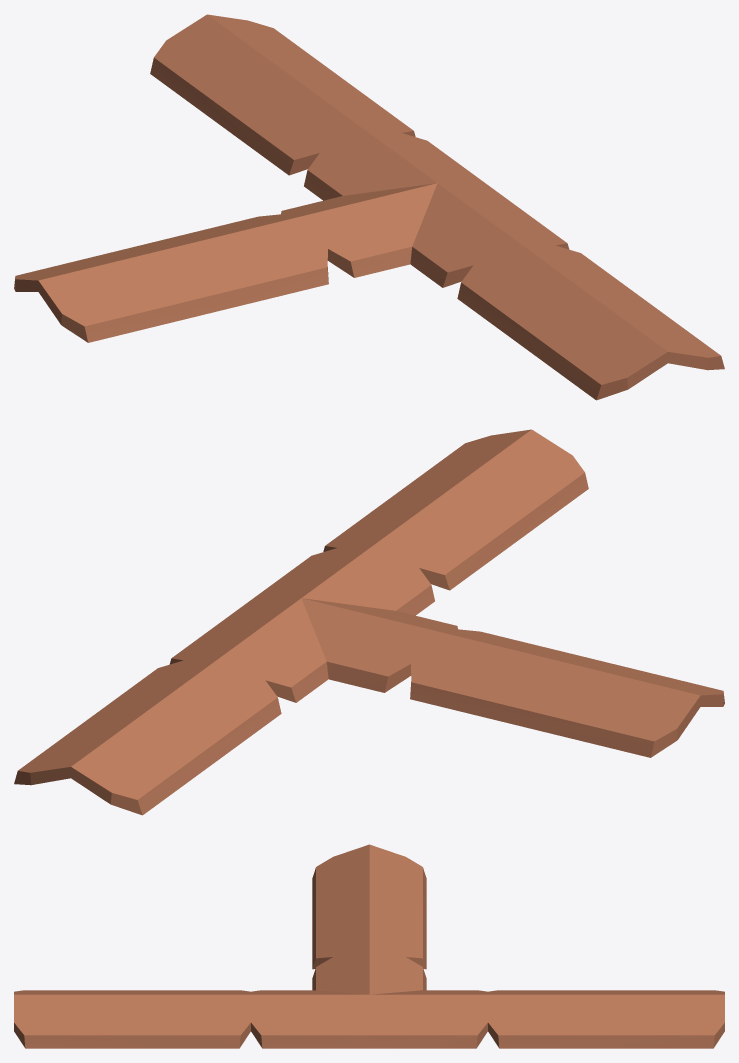
File: SM_Roof_Top_T_3m_Empire.fbx
The picture shows the model from 3 angles, top to bottom: view 1: azimuth 30°, elevation 25°; view 2: azimuth 150°, elevation 25°; view 3: azimuth 270°, elevation 25°; orthographic projection. The views are drawn at different scales.
Parts seen in each view (by area): view 1: SM_Roof_Top_T_3m_Empire; view 2: SM_Roof_Top_T_3m_Empire; view 3: SM_Roof_Top_T_3m_Empire.
Boxes of the visible parts, box(x1,y1,x2,y2) form: SM_Roof_Top_T_3m_Empire: box(14, 14, 724, 400); SM_Roof_Top_T_3m_Empire: box(14, 429, 724, 815); SM_Roof_Top_T_3m_Empire: box(14, 844, 724, 1048).
Bounding box in the file's own units: 1.74 × 0.1378 × 3.
